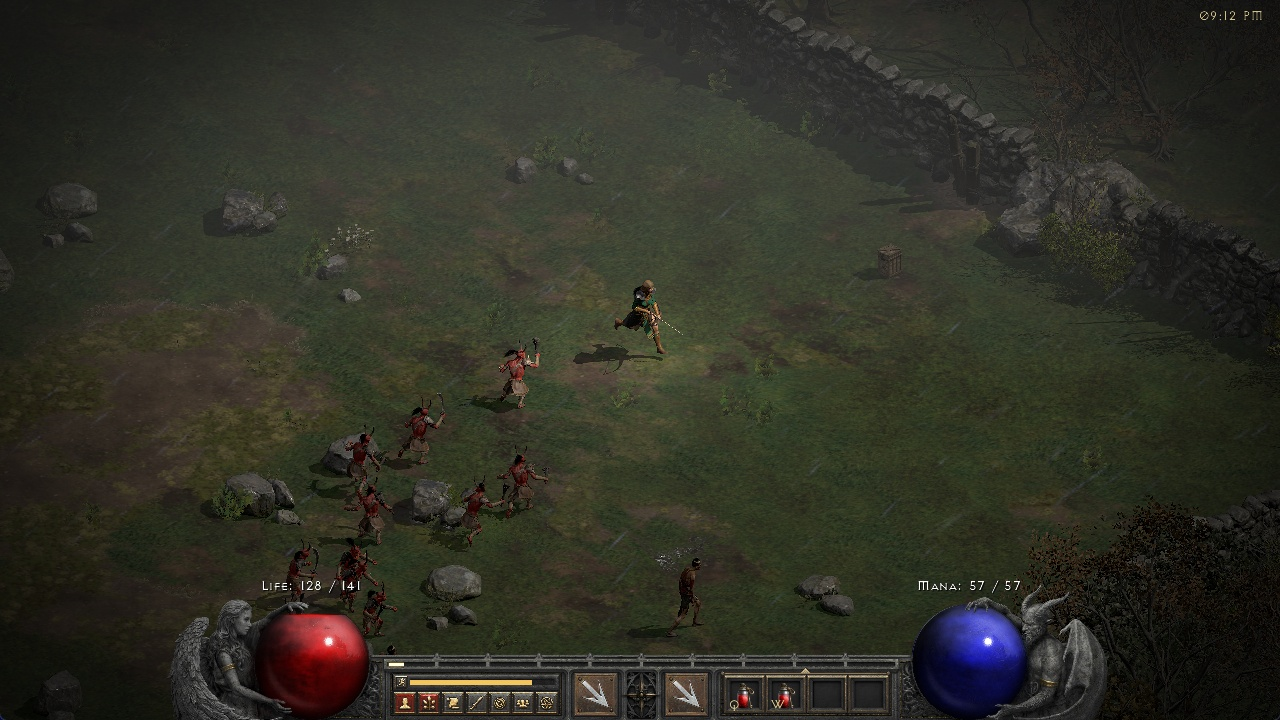fallen: (493, 335, 548, 409), (399, 397, 455, 461), (329, 433, 384, 486), (499, 449, 548, 507), (458, 485, 503, 539), (361, 488, 402, 546), (281, 539, 321, 592), (364, 596, 402, 635), (337, 566, 368, 593), (334, 542, 362, 562)
